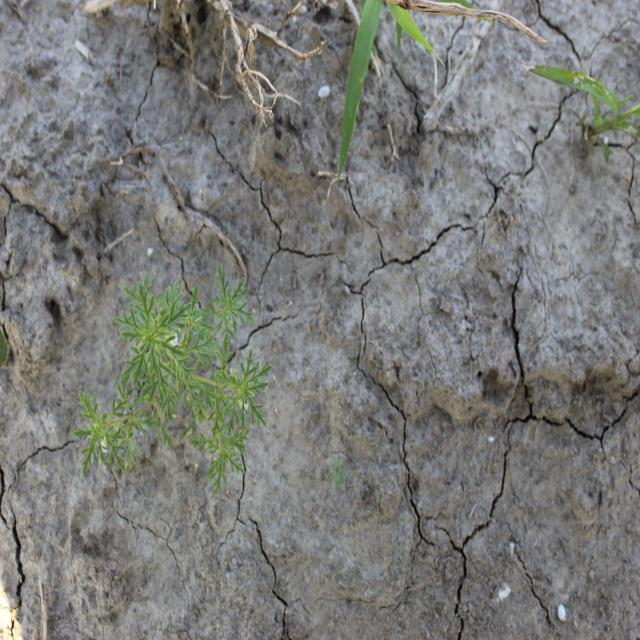Ragweed: (71, 263, 273, 497)
